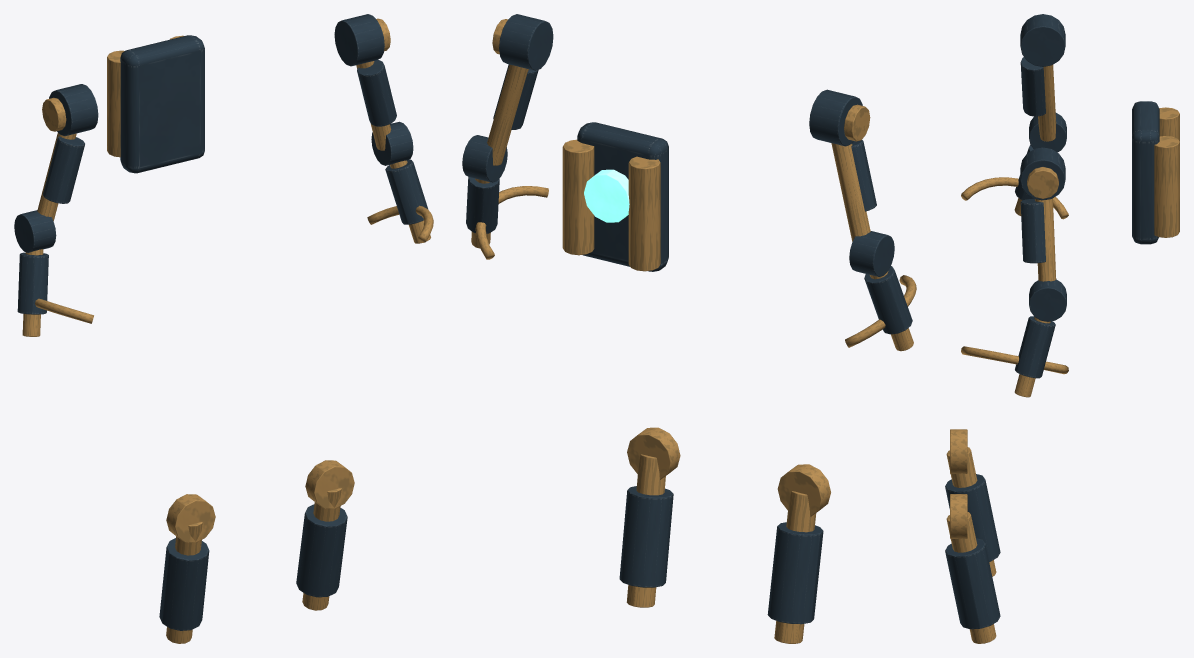
Rendered from exoskeleton.glb.
3 renders of one model, left to right at view 1: azimuth 30°, elevation 25°; view 2: azimuth 150°, elevation 25°; view 3: azimuth 270°, elevation 25°, orthographic. The views are drawn at different scales.
Parts seen in each view (by area): view 1: exoskeleton__backplate, exoskeleton__shin_guard_L, exoskeleton__shin_guard_R, exoskeleton__shoulder_L, exoskeleton__upper_damper_R, exoskeleton__upper_damper_L, exoskeleton__forearm_plate_R, exoskeleton__knee_R, exoskeleton__knee_L, exoskeleton__shoulder_R, exoskeleton__forearm_plate_L, exoskeleton__back_damper_neg1 (+6 smaller); view 2: exoskeleton__backplate, exoskeleton__shin_guard_L, exoskeleton__shin_guard_R, exoskeleton__back_damper_neg1, exoskeleton__back_damper_1, exoskeleton__shoulder_L, exoskeleton__back_core, exoskeleton__shoulder_R, exoskeleton__upper_rail_L, exoskeleton__forearm_plate_R, exoskeleton__upper_rail_R, exoskeleton__knee_L (+11 smaller); view 3: exoskeleton__backplate, exoskeleton__shin_guard_L, exoskeleton__back_damper_1, exoskeleton__shoulder_R, exoskeleton__shin_guard_R, exoskeleton__forearm_plate_L, exoskeleton__upper_damper_L, exoskeleton__elbow_L, exoskeleton__shoulder_L, exoskeleton__upper_damper_R, exoskeleton__upper_rail_L, exoskeleton__upper_rail_R (+10 smaller).
Boxes of the visible parts, left/top/right/bottom form: exoskeleton__backplate: left=120, top=35, right=204, bottom=173; exoskeleton__shin_guard_L: left=296, top=504, right=347, bottom=597; exoskeleton__shin_guard_R: left=159, top=538, right=209, bottom=630; exoskeleton__shoulder_L: left=334, top=14, right=384, bottom=66; exoskeleton__upper_damper_R: left=43, top=136, right=84, bottom=203; exoskeleton__upper_damper_L: left=357, top=60, right=396, bottom=126; exoskeleton__forearm_plate_R: left=17, top=252, right=48, bottom=314; exoskeleton__knee_R: left=166, top=494, right=215, bottom=542; exoskeleton__knee_L: left=305, top=460, right=354, bottom=508; exoskeleton__shoulder_R: left=49, top=84, right=98, bottom=136; exoskeleton__forearm_plate_L: left=385, top=159, right=428, bottom=224; exoskeleton__back_damper_neg1: left=107, top=50, right=124, bottom=157; exoskeleton__backplate: left=577, top=122, right=668, bottom=271; exoskeleton__shin_guard_L: left=619, top=486, right=673, bottom=587; exoskeleton__shin_guard_R: left=767, top=522, right=823, bottom=624; exoskeleton__back_damper_neg1: left=628, top=156, right=660, bottom=271; exoskeleton__back_damper_1: left=562, top=139, right=594, bottom=255; exoskeleton__shoulder_L: left=499, top=14, right=553, bottom=70; exoskeleton__back_core: left=584, top=169, right=629, bottom=222; exoskeleton__shoulder_R: left=809, top=89, right=862, bottom=146; exoskeleton__upper_rail_L: left=487, top=64, right=528, bottom=165; exoskeleton__forearm_plate_R: left=864, top=266, right=912, bottom=334; exoskeleton__upper_rail_R: left=831, top=143, right=870, bottom=241; exoskeleton__knee_L: left=627, top=427, right=680, bottom=479; exoskeleton__backplate: left=1132, top=101, right=1159, bottom=244; exoskeleton__shin_guard_L: left=945, top=538, right=1000, bottom=629; exoskeleton__back_damper_1: left=1154, top=136, right=1179, bottom=237; exoskeleton__shoulder_R: left=1020, top=14, right=1065, bottom=66; exoskeleton__shin_guard_R: left=945, top=474, right=1000, bottom=561; exoskeleton__forearm_plate_L: left=1015, top=316, right=1055, bottom=378; exoskeleton__upper_damper_L: left=1020, top=198, right=1045, bottom=263; exoskeleton__elbow_L: left=1029, top=279, right=1066, bottom=321; exoskeleton__shoulder_L: left=1020, top=147, right=1065, bottom=200; exoskeleton__upper_damper_R: left=1020, top=57, right=1045, bottom=116; exoskeleton__upper_rail_L: left=1035, top=198, right=1056, bottom=281; exoskeleton__upper_rail_R: left=1038, top=65, right=1056, bottom=141.
Bounding box in the file's own units: 0.8989 × 1.15 × 0.4683.
2 materials, 2 textured.
